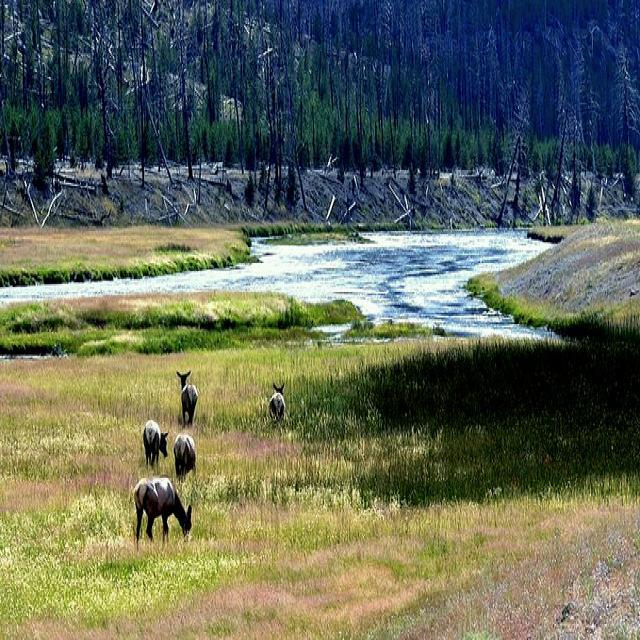cow: (132, 472, 191, 544), (175, 367, 197, 425), (141, 416, 167, 465)
